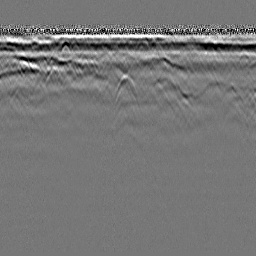cavity: (113, 70, 138, 102)
